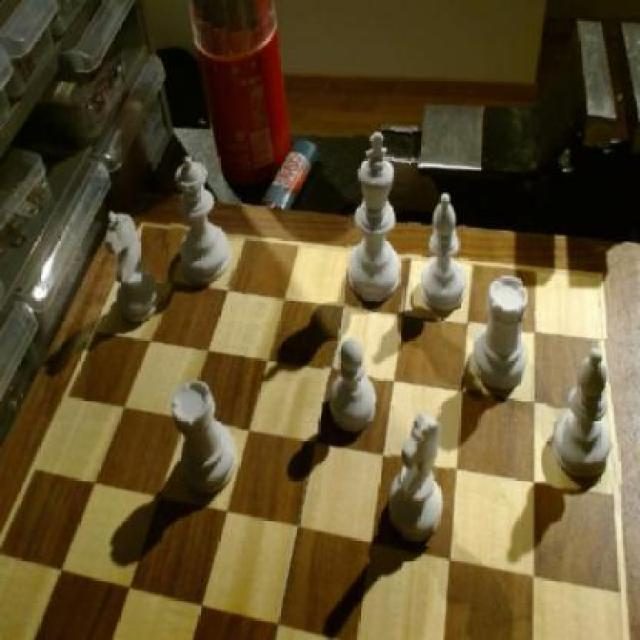black-rook: (546, 340, 621, 490), (420, 189, 468, 311)
white-bishop: (348, 125, 410, 313)
white-king: (388, 406, 452, 547), (104, 208, 164, 332)
white-knight: (321, 337, 384, 441)
white-pawn: (169, 156, 238, 286)
white-queen: (169, 368, 240, 504), (468, 269, 536, 402)
